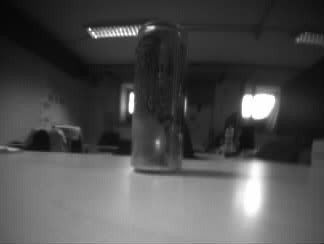Tin can: (127, 19, 190, 175)
